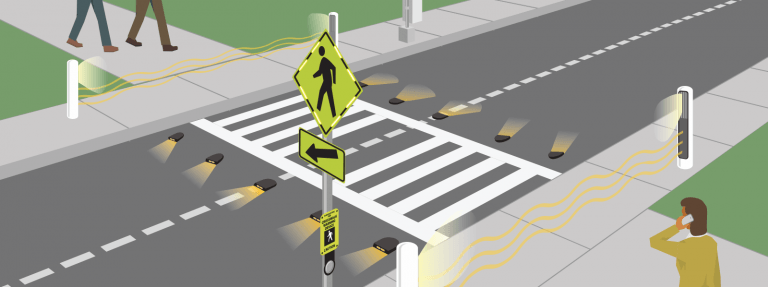Crosswalk: (195, 87, 569, 226)
